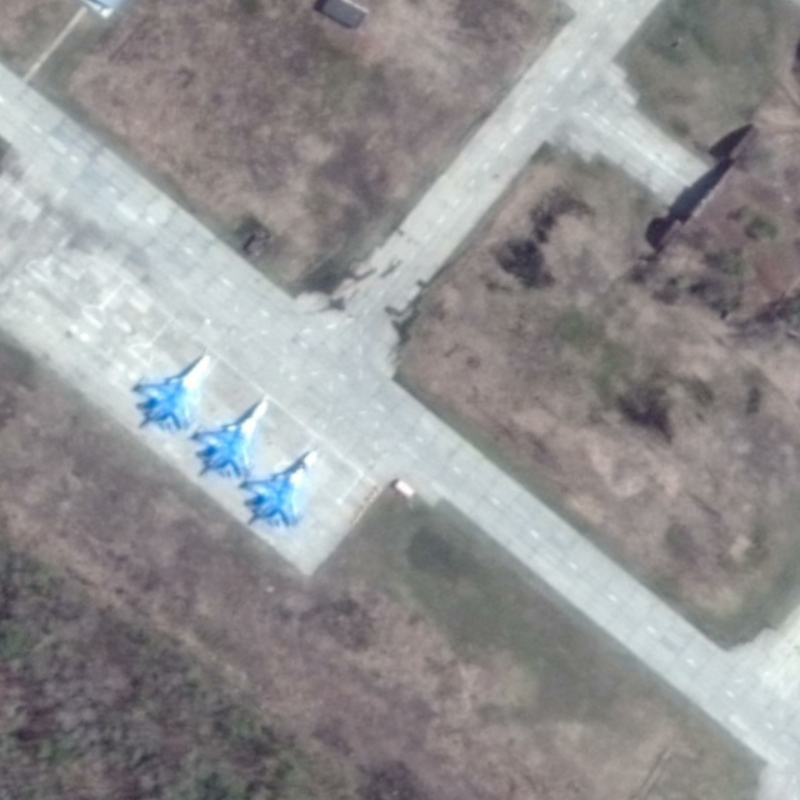A19: (134, 353, 214, 439), (189, 399, 270, 483), (242, 448, 321, 531)
